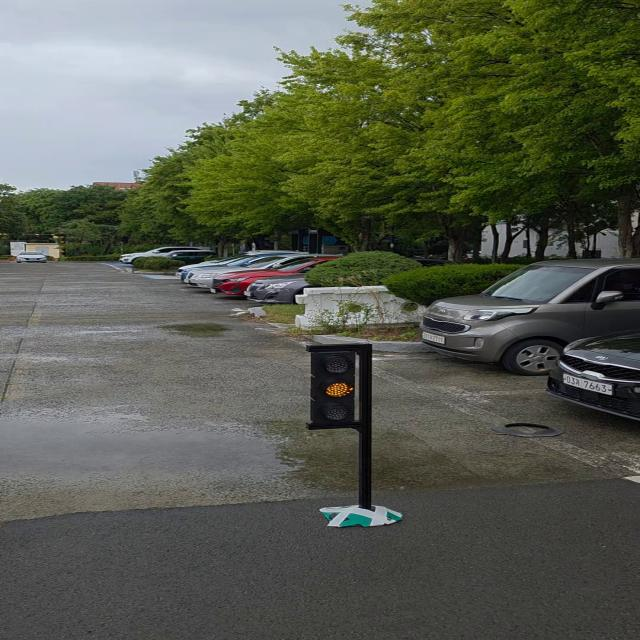yellow: (302, 346, 368, 429)
